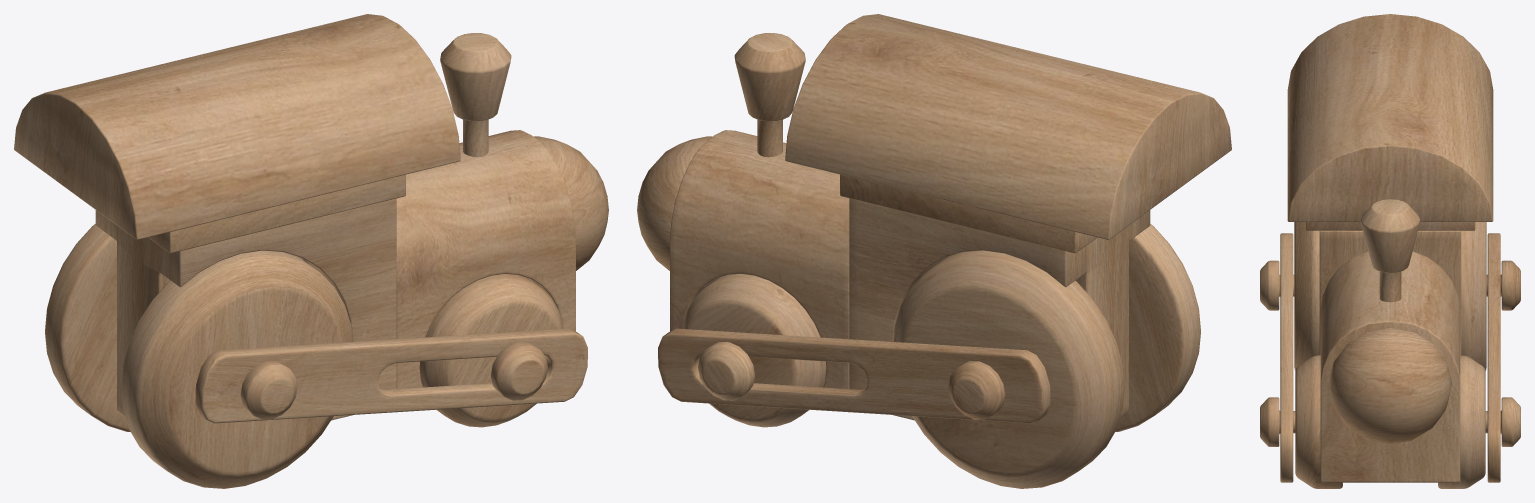
Rendered from Tren.glb.
3 renders of one model, left to right at view 1: azimuth 30°, elevation 25°; view 2: azimuth 150°, elevation 25°; view 3: azimuth 270°, elevation 25°, orthographic. The views are drawn at different scales.
Parts seen in each view (by area): view 1: Toy train-02; view 2: Toy train-02; view 3: Toy train-02.
Boxes of the visible parts, <box> form: Toy train-02: <box>14,14,608,488</box>; Toy train-02: <box>637,14,1231,488</box>; Toy train-02: <box>1260,14,1520,488</box>.
Size of the model in its own units: 0.1108 by 0.0769 by 0.0573.
2 materials, 1 textured.
